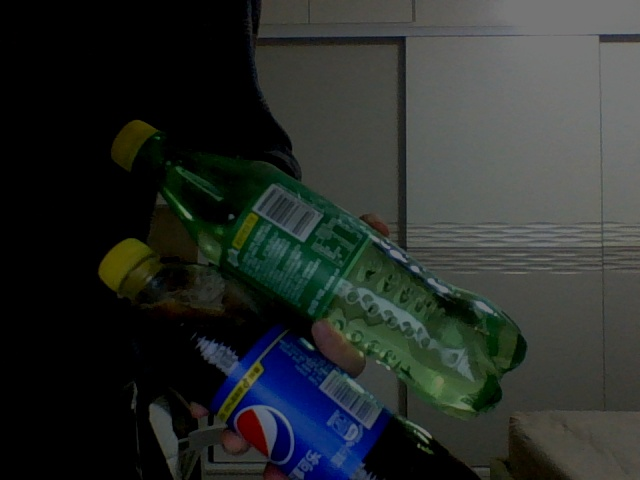Cola: (100, 243, 481, 477)
Sprite: (111, 123, 528, 413)
